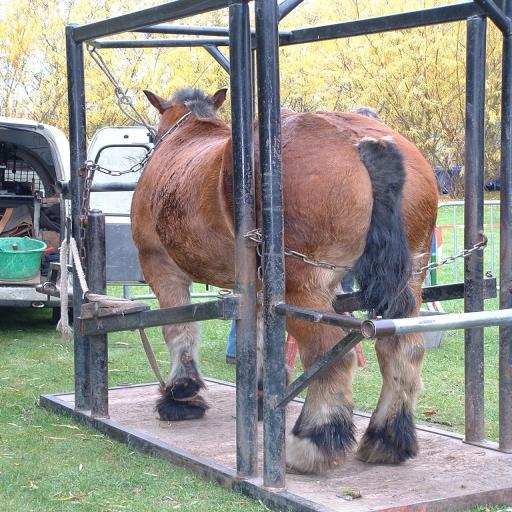horse: (130, 82, 442, 478)
